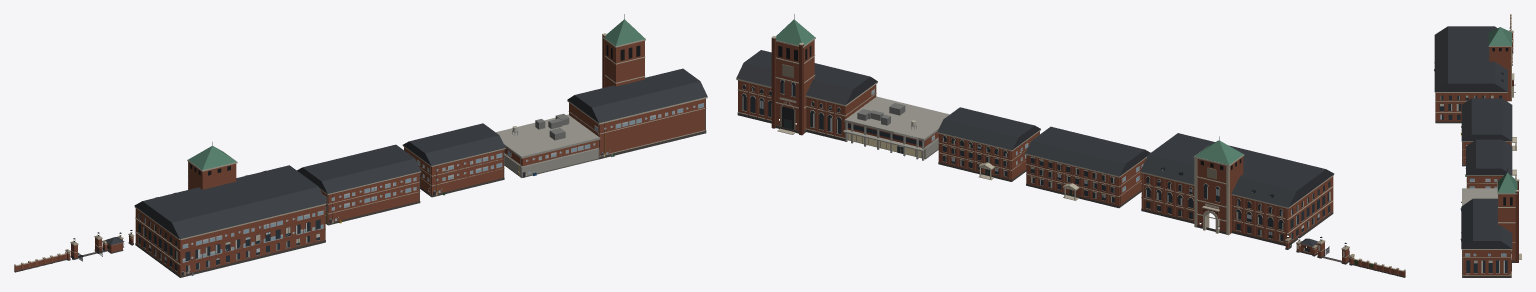
The model's file is daigaku.glb.
3 views of the same model, side by side, from view 1: azimuth 30°, elevation 25°; view 2: azimuth 150°, elevation 25°; view 3: azimuth 270°, elevation 25° (orthographic). The views are drawn at different scales.
Visible parts, largest first — view 1: daigaku_library_body, daigaku_auditorium_body, daigaku_hall_a_body, daigaku_hall_b_body, daigaku_shokudo_body, daigaku_gate_body; view 2: daigaku_library_body, daigaku_auditorium_body, daigaku_hall_a_body, daigaku_hall_b_body, daigaku_shokudo_body, daigaku_gate_body; view 3: daigaku_library_body, daigaku_auditorium_body, daigaku_hall_a_body, daigaku_hall_b_body, daigaku_shokudo_body.
Boxes of the visible parts, x1,y1,x2,y2 form: daigaku_library_body: (134, 142, 326, 277); daigaku_auditorium_body: (567, 14, 707, 159); daigaku_hall_a_body: (297, 144, 421, 225); daigaku_hall_b_body: (402, 123, 505, 197); daigaku_shokudo_body: (496, 113, 600, 177); daigaku_gate_body: (65, 232, 107, 261); daigaku_library_body: (1140, 133, 1334, 245); daigaku_auditorium_body: (736, 14, 877, 141); daigaku_hall_a_body: (1025, 126, 1150, 208); daigaku_hall_b_body: (937, 107, 1040, 181); daigaku_shokudo_body: (843, 96, 949, 160); daigaku_gate_body: (1312, 236, 1354, 265); daigaku_library_body: (1434, 26, 1515, 123); daigaku_auditorium_body: (1460, 168, 1521, 277); daigaku_hall_a_body: (1460, 98, 1516, 166); daigaku_hall_b_body: (1465, 139, 1516, 188); daigaku_shokudo_body: (1460, 188, 1497, 210).
Bounding box in the file's own units: 274 × 44 × 39.42.
